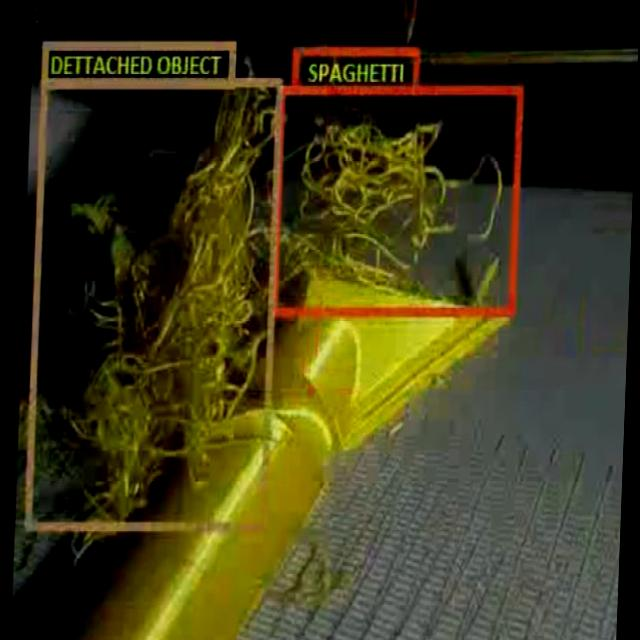spaghetti: (41, 99, 275, 519), (279, 105, 509, 303)
